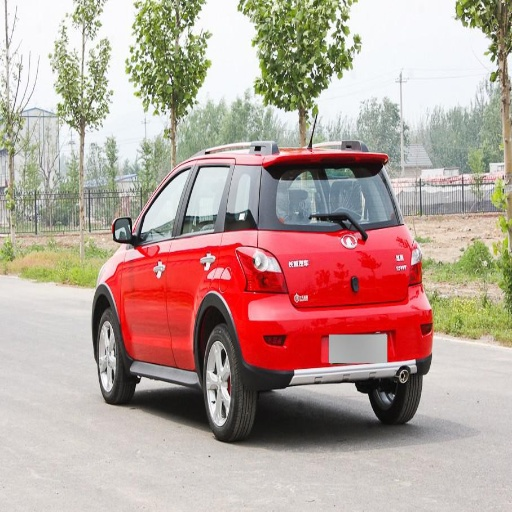back_bumper: (252, 292, 431, 371)
back_glass: (268, 163, 390, 228)
trunk: (214, 229, 408, 352)
